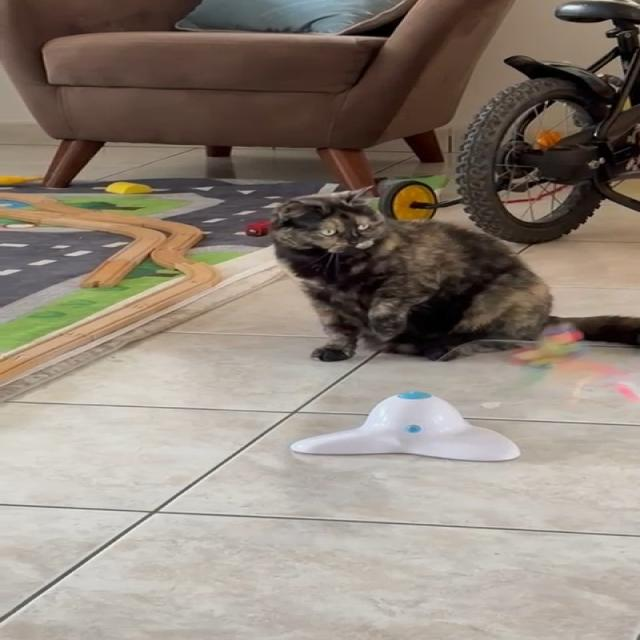authorized: (262, 185, 638, 363)
